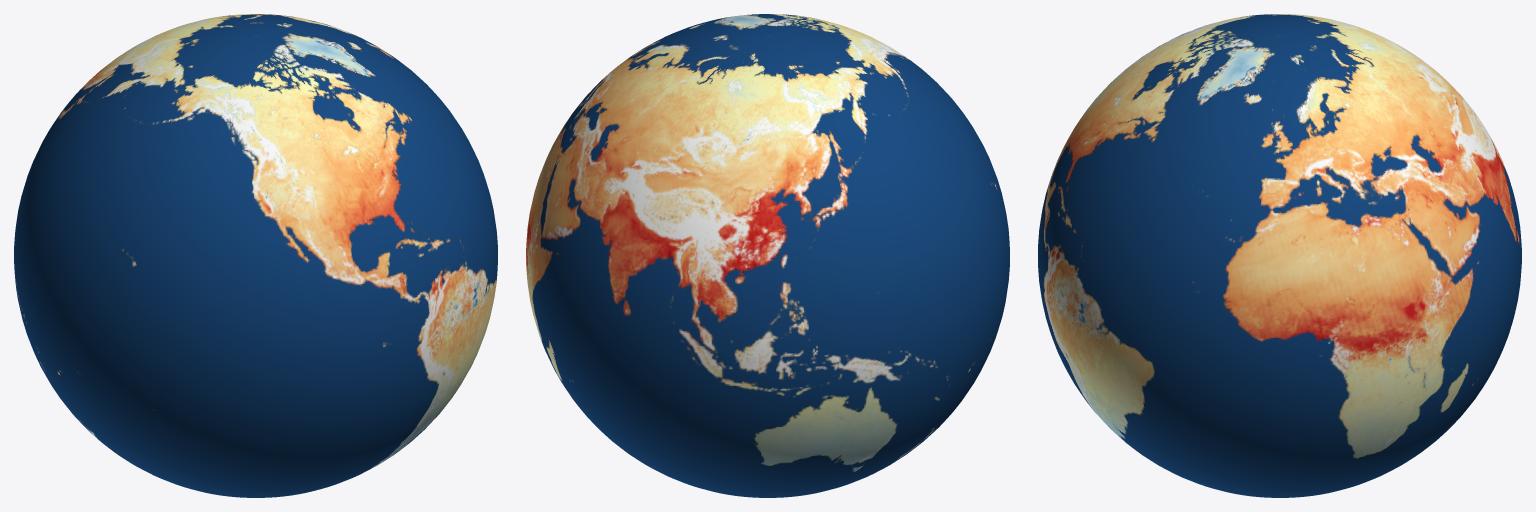
The model's file is CH4-globe.glb.
3 renders of one model, left to right at view 1: azimuth 30°, elevation 25°; view 2: azimuth 150°, elevation 25°; view 3: azimuth 270°, elevation 25°, orthographic.
Parts seen in each view (by area): view 1: Sphere; view 2: Sphere; view 3: Sphere.
Part boxes in pixels (box(x1,y1,x2,y2)): Sphere: box(14, 14, 497, 497); Sphere: box(526, 14, 1009, 497); Sphere: box(1038, 14, 1521, 497).
Bounding box in the file's own units: 3.82 × 3.82 × 3.81.
Materials: 1 (1 with a texture image).
